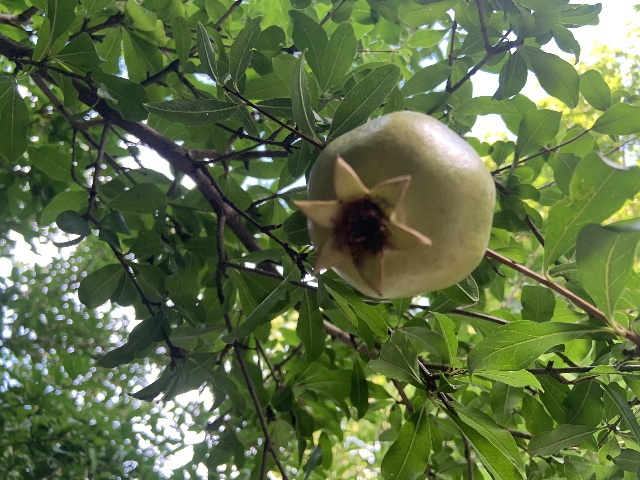mid-growth: (292, 111, 496, 299)
